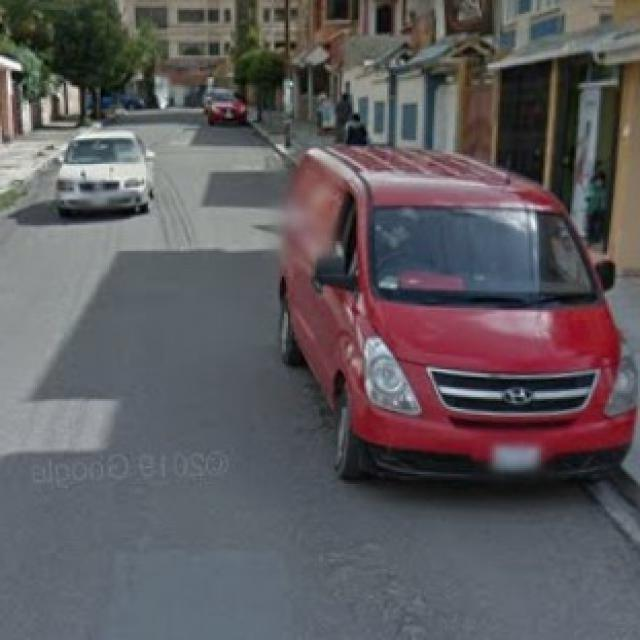Car: (274, 163, 624, 491), (43, 117, 163, 240), (198, 84, 248, 135)
